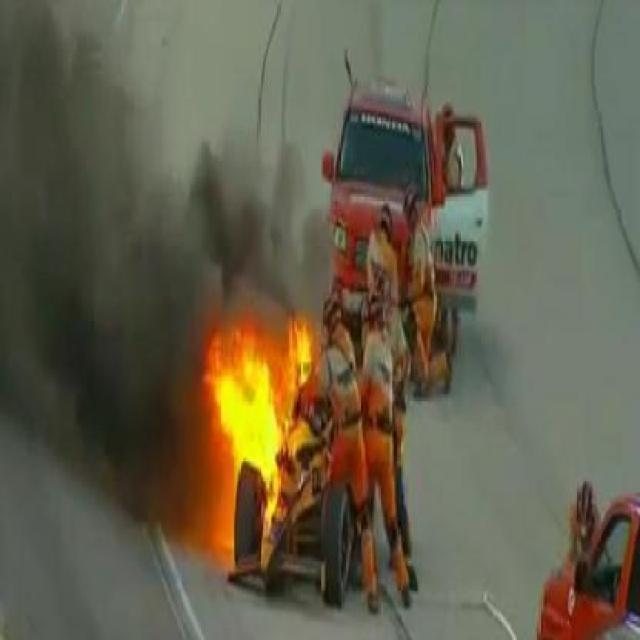Fire: (206, 322, 312, 560)
